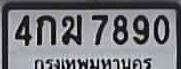0: (153, 14, 168, 43)
4: (14, 14, 31, 45)
7: (91, 14, 107, 44)
8: (112, 14, 127, 44)
9: (132, 14, 148, 44)
A01: (36, 14, 55, 45)
A06: (61, 14, 81, 44)
BKK: (31, 54, 154, 69)
